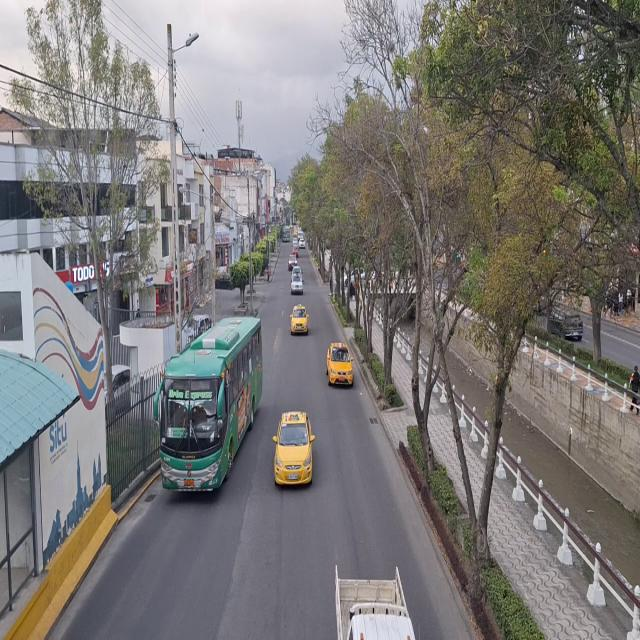BUS: (158, 321, 264, 505), (283, 228, 291, 243)
